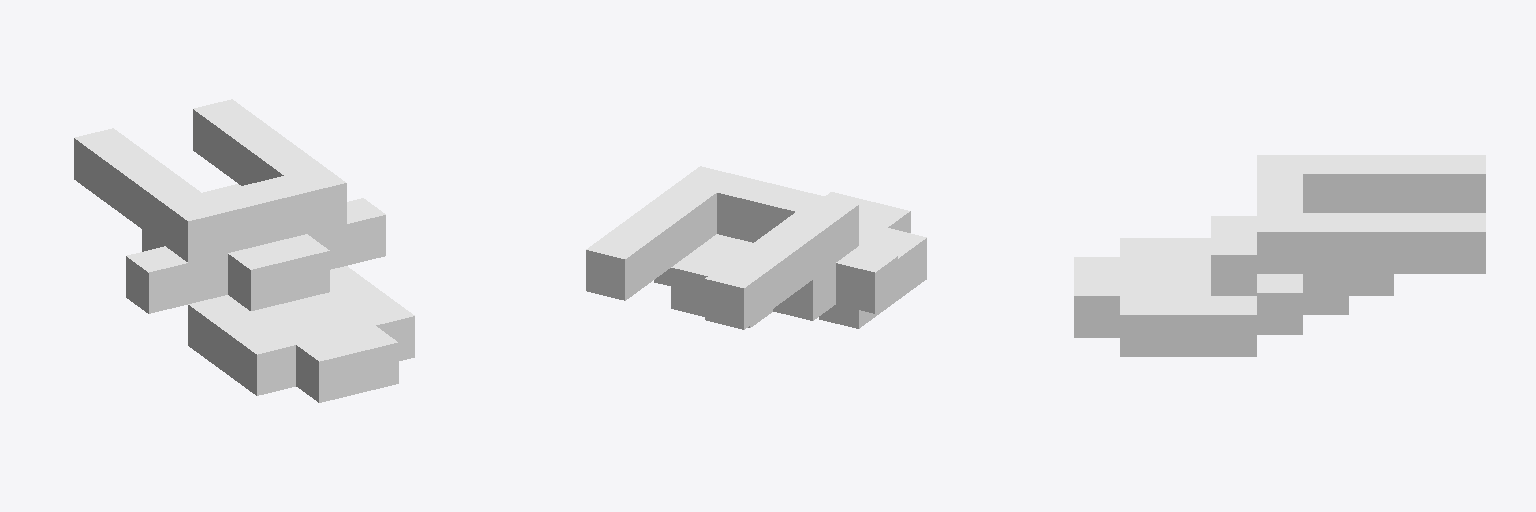
The model's file is Extra-10-InterstellarRunner_Cockpit.obj.
3 renders of one model, left to right at view 1: azimuth 30°, elevation 25°; view 2: azimuth 150°, elevation 25°; view 3: azimuth 270°, elevation 25°, orthographic.
Visible parts, largest first — view 1: InterstellarRunner_Cockpit; view 2: InterstellarRunner_Cockpit; view 3: InterstellarRunner_Cockpit.
Boxes of the visible parts, x1,y1,x2,y2 form: InterstellarRunner_Cockpit: [74, 99, 414, 402]; InterstellarRunner_Cockpit: [586, 166, 926, 329]; InterstellarRunner_Cockpit: [1074, 155, 1485, 356].
Size of the model in its own units: 0.6 by 0.3 by 0.9.